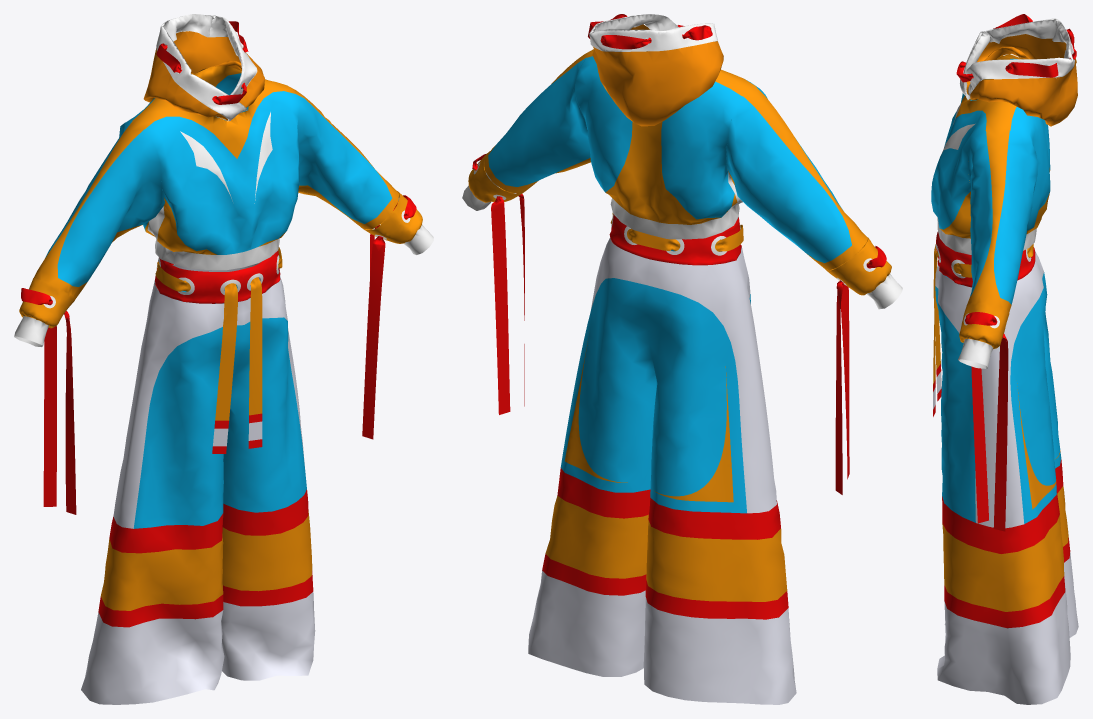
Rendered from full_outfit_-_sweater__hoodie__pants.glb.
3 views of the same model, side by side, from view 1: azimuth 30°, elevation 25°; view 2: azimuth 150°, elevation 25°; view 3: azimuth 270°, elevation 25° (orthographic). The views are drawn at different scales.
Parts seen in each view (by area): view 1: Hoodie - Pants - Full Outfit_0; view 2: Hoodie - Pants - Full Outfit_0; view 3: Hoodie - Pants - Full Outfit_0.
Boxes of the visible parts, bbox=[...] form: Hoodie - Pants - Full Outfit_0: bbox=[14, 14, 433, 704]; Hoodie - Pants - Full Outfit_0: bbox=[462, 14, 902, 704]; Hoodie - Pants - Full Outfit_0: bbox=[931, 14, 1078, 704].
Size of the model in its own units: 1.1 by 1.62 by 0.3442.
Materials: 2 (2 with a texture image).
